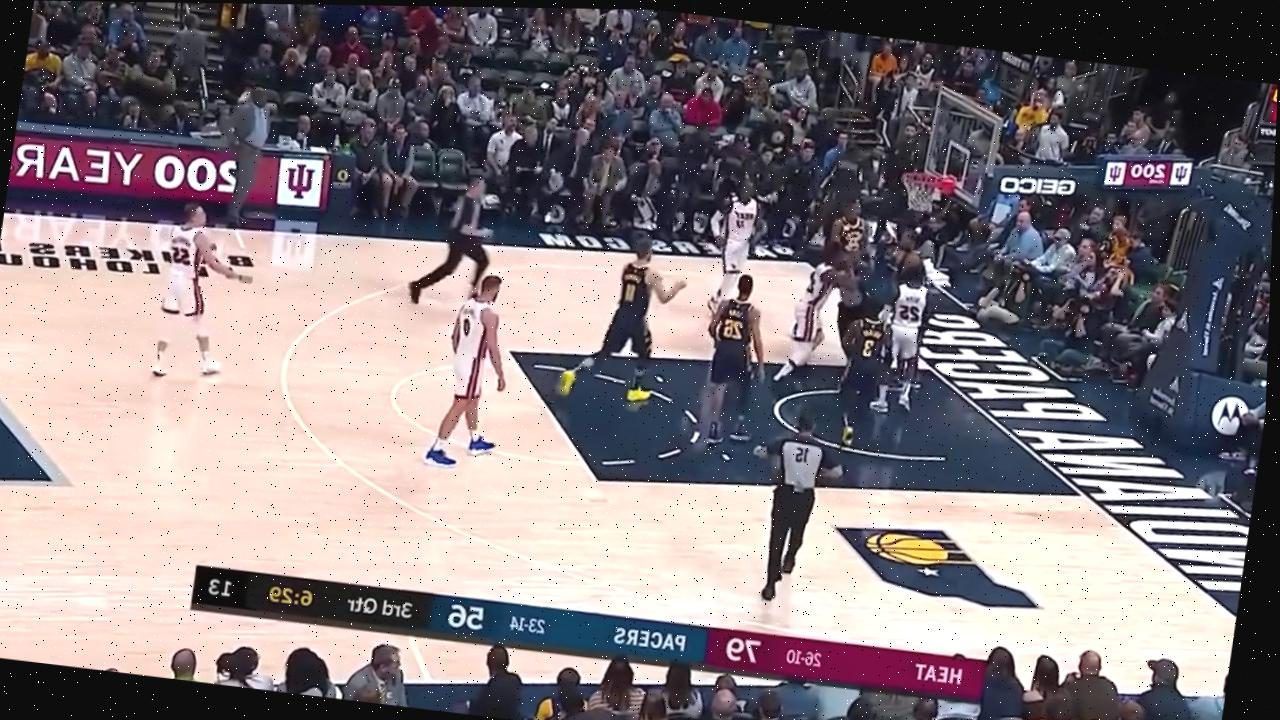foul: (780, 223, 934, 397)
